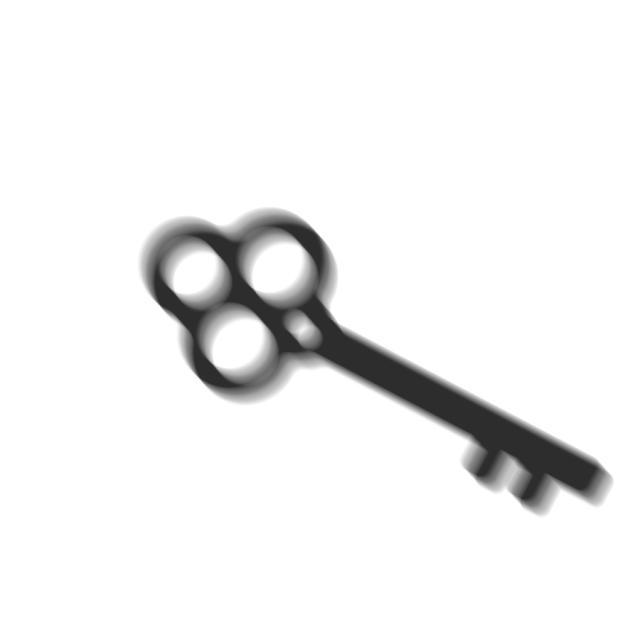key: (132, 199, 621, 530)
